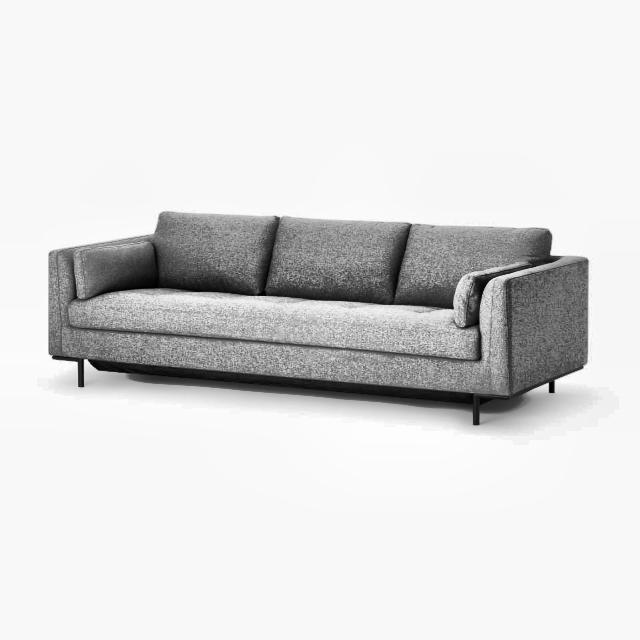sofa: (47, 212, 591, 426)
